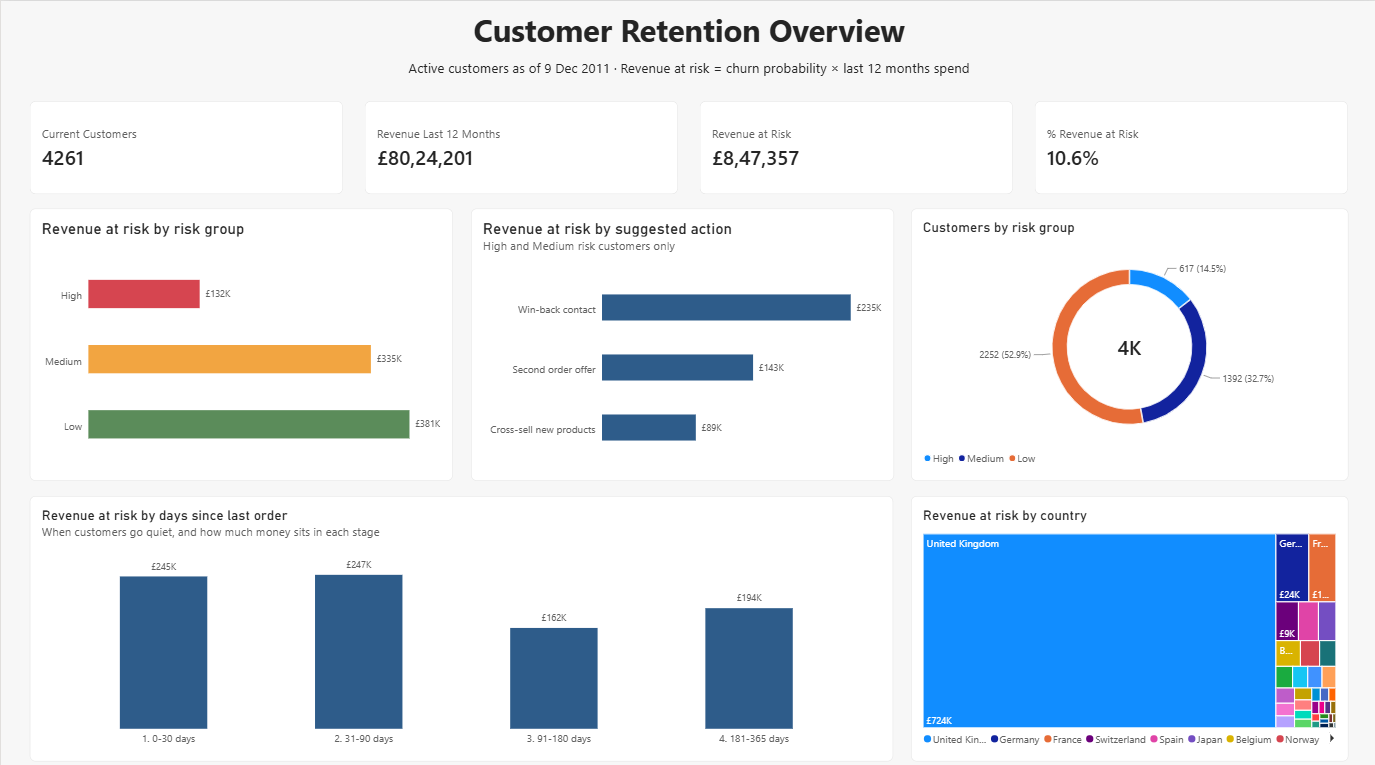

What the dashboard file says about the page in this screenshot:
{"tool":"powerbi","page":{"name":"Overview","canvas":[1920,1080],"ordinal":0},"visuals":[{"type":"cardVisual","fields":{"Data":["customer_risk_scores.Current Customers"]},"box":[40,140,437.5,130],"z":0},{"type":"cardVisual","fields":{"Data":["customer_risk_scores.% Revenue at Risk"]},"box":[1442.5,140,437.5,130],"z":1},{"type":"cardVisual","fields":{"Data":["customer_risk_scores.Revenue at Risk"]},"box":[975,140,437.5,130],"z":2},{"type":"cardVisual","fields":{"Data":["customer_risk_scores.Revenue Last 12 Months"]},"box":[507.5,140,437.5,130],"z":3},{"type":"textbox","box":[40,10,1840,75],"z":4},{"type":"textbox","box":[40,80,1840,45],"z":5},{"type":"clusteredBarChart","title":"Revenue at risk by risk group","fields":{"Category":["customer_risk_scores.risk_group"],"Y":["customer_risk_scores.Revenue at Risk"]},"box":[40,290,590,380],"z":6},{"type":"clusteredBarChart","title":"Revenue at risk by suggested action","fields":{"Category":["customer_risk_scores.suggested_action"],"Y":["customer_risk_scores.Revenue at Risk"]},"box":[655,290,590,380],"z":7},{"type":"donutChart","title":"Customers by risk group","fields":{"Category":["customer_risk_scores.risk_group"],"Y":["customer_risk_scores.Current Customers"]},"box":[1270,290,610,380],"z":10},{"type":"clusteredColumnChart","title":"Revenue at risk by days since last order","fields":{"Category":["customer_risk_scores.Days Since Last Order Band"],"Y":["customer_risk_scores.Revenue at Risk"]},"box":[40,690,1205,370],"z":11},{"type":"treemap","title":"Revenue at risk by country","fields":{"Group":["customer_risk_scores.country"],"Values":["customer_risk_scores.Revenue at Risk"]},"box":[1270,690,610,370],"z":12}]}

Visuals, with their boxes in screenshot pixels (x1, y1, x2, y2), scaled from the page's 1920x1080 canvas onto the 1375x765 screenshot:
cardVisual - customer_risk_scores.Current Customers: pyautogui.locateOnScreen(29, 99, 342, 191)
cardVisual - customer_risk_scores.% Revenue at Risk: pyautogui.locateOnScreen(1033, 99, 1346, 191)
cardVisual - customer_risk_scores.Revenue at Risk: pyautogui.locateOnScreen(698, 99, 1012, 191)
cardVisual - customer_risk_scores.Revenue Last 12 Months: pyautogui.locateOnScreen(363, 99, 677, 191)
textbox: pyautogui.locateOnScreen(29, 7, 1346, 60)
textbox: pyautogui.locateOnScreen(29, 57, 1346, 89)
"Revenue at risk by risk group" clusteredBarChart: pyautogui.locateOnScreen(29, 205, 451, 475)
"Revenue at risk by suggested action" clusteredBarChart: pyautogui.locateOnScreen(469, 205, 892, 475)
"Customers by risk group" donutChart: pyautogui.locateOnScreen(910, 205, 1346, 475)
"Revenue at risk by days since last order" clusteredColumnChart: pyautogui.locateOnScreen(29, 489, 892, 751)
"Revenue at risk by country" treemap: pyautogui.locateOnScreen(910, 489, 1346, 751)
